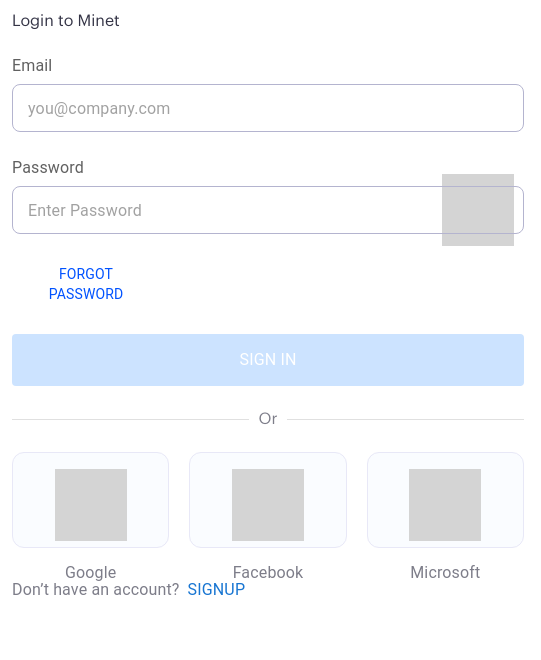
Test: LogIn Component › shows error messages for invalid email and password
Type "tes.com" into the field with placeholder "you@company.com". click: (268, 108)
box: [12,84,524,132]
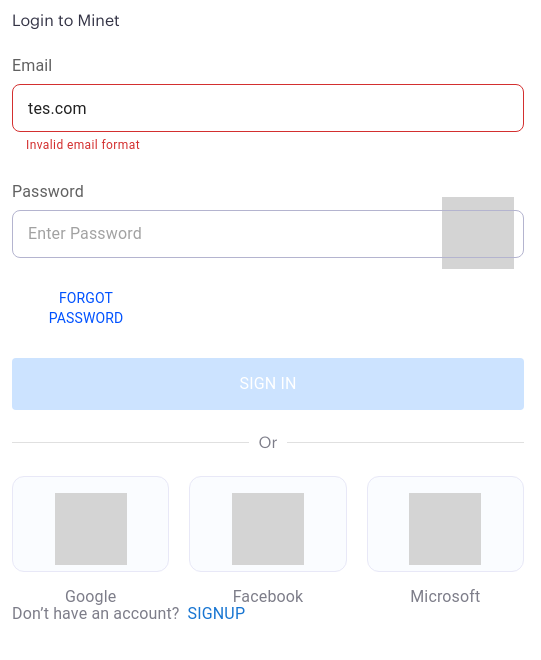
Type "weak" into the password field with placeholder "Enter Password". click: (219, 234)
box: [12,210,426,258]
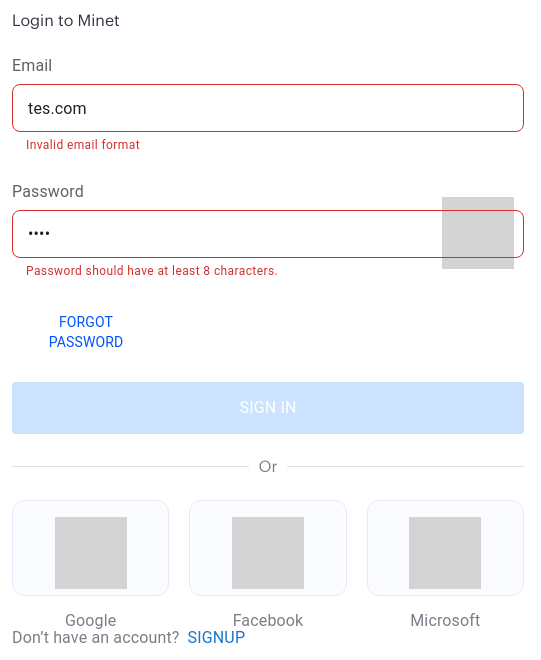
Now the text "Invalid email format" is shown, box [26,138,140,152]
Now the text "Password should have at least 8 characters." is shown, box [26,264,278,278]
